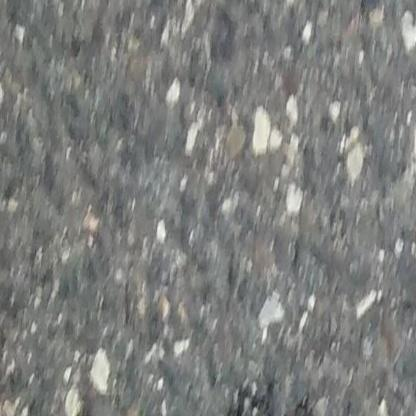Cracks: (185, 384, 328, 416), (37, 410, 129, 416)
